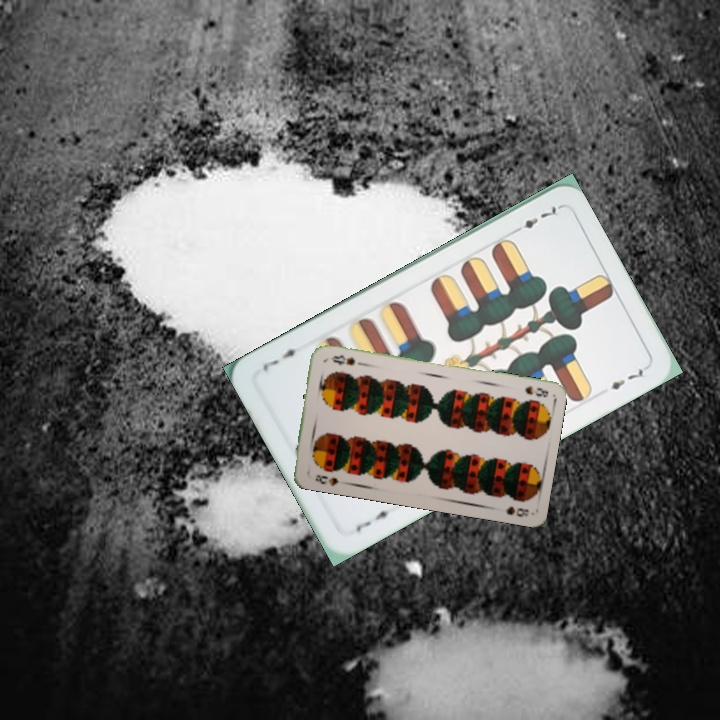E7: (508, 202, 562, 237), (351, 505, 398, 534)
S8: (311, 470, 341, 489), (521, 382, 551, 400)
